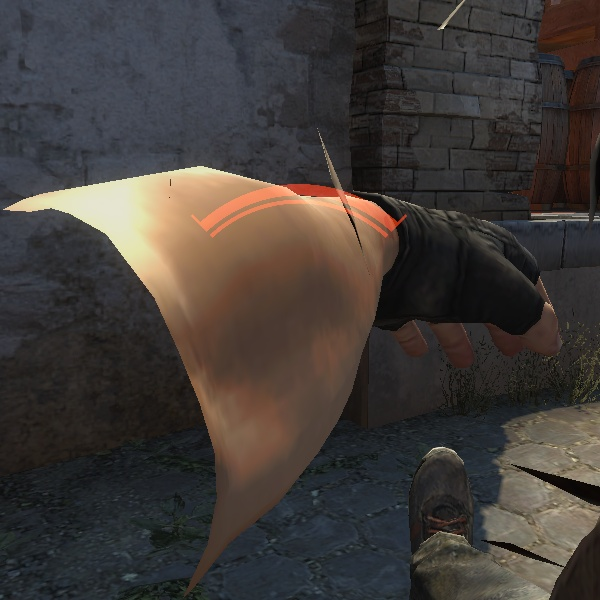t_body: (102, 0, 587, 600)
